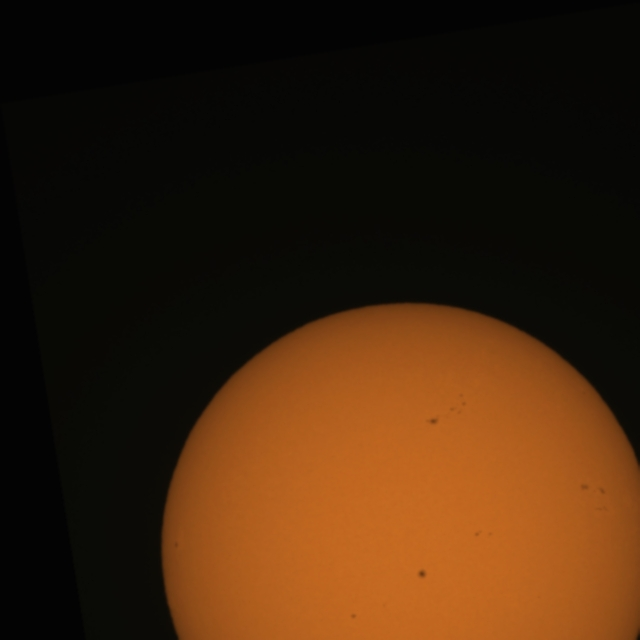sunspot: (449, 393, 468, 416), (580, 482, 606, 497), (474, 528, 494, 540), (426, 415, 440, 426), (416, 568, 428, 580), (598, 486, 607, 496), (349, 612, 358, 621), (173, 540, 180, 550)
